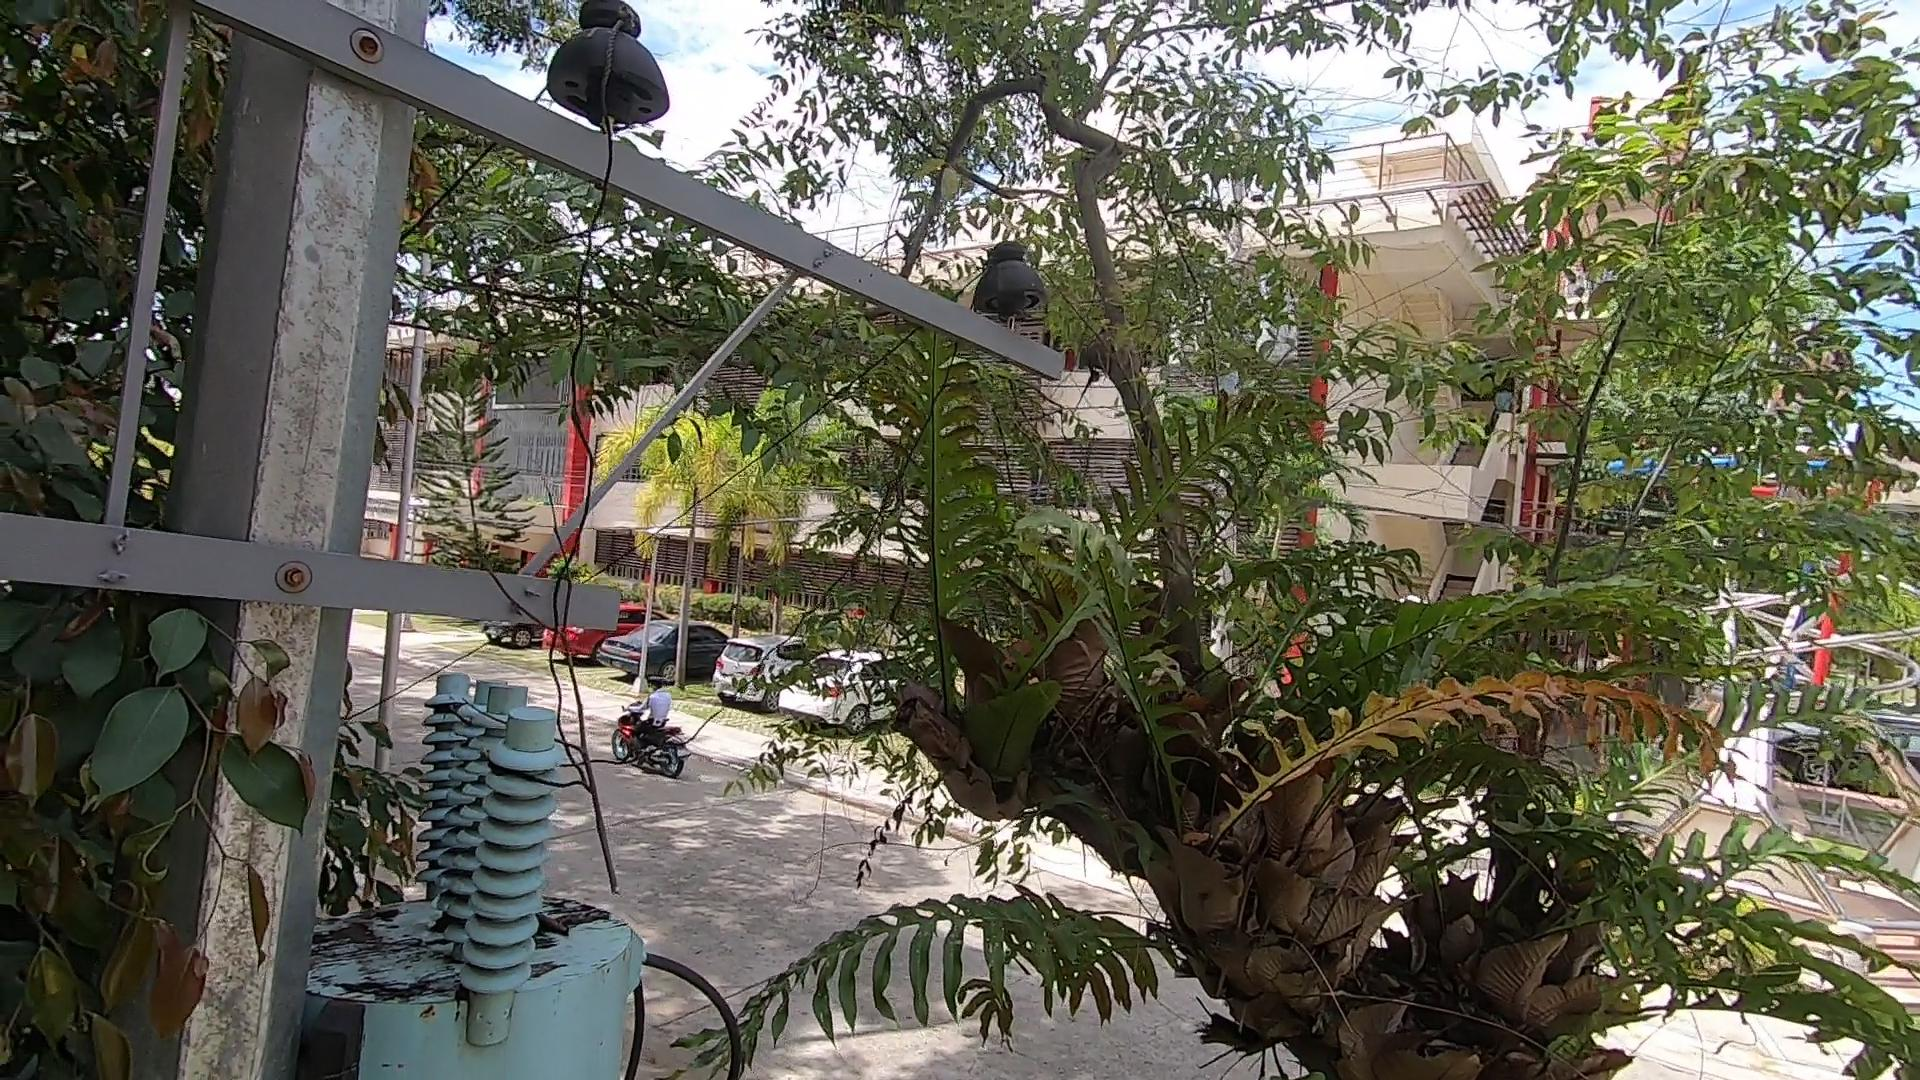leaf: (535, 905, 576, 942)
tree branch: (452, 462, 683, 902)
